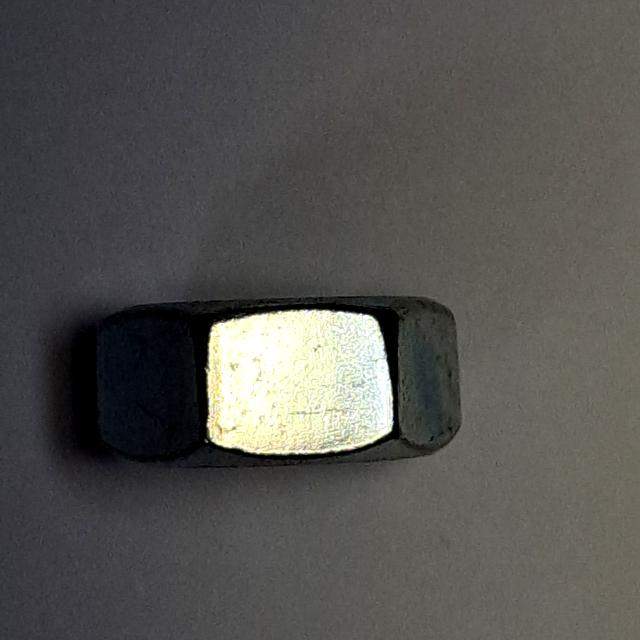Side_Excellent: (83, 282, 477, 486)
